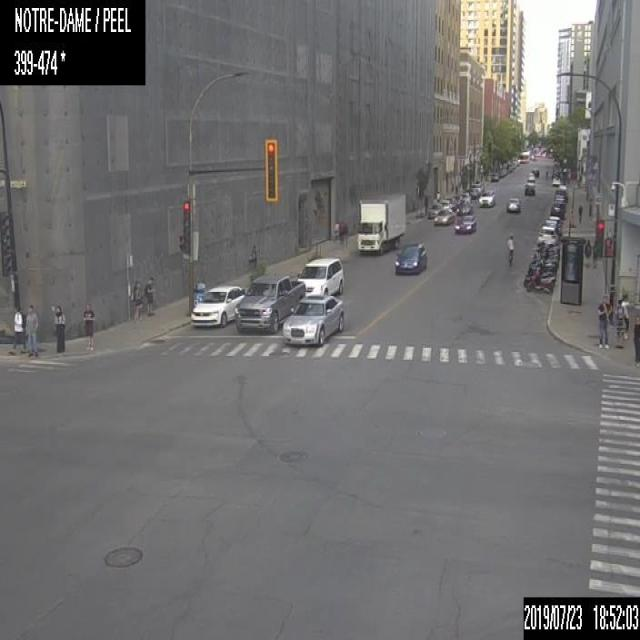pedestrian: (613, 293, 628, 347), (595, 296, 610, 349), (24, 303, 38, 357), (10, 302, 24, 355), (52, 303, 64, 352), (81, 306, 94, 351), (130, 275, 142, 320), (632, 297, 639, 364), (144, 275, 154, 319), (333, 219, 348, 248), (246, 243, 256, 281), (506, 232, 514, 267), (576, 201, 582, 223), (586, 197, 592, 216)
vehicle: (234, 272, 304, 332), (354, 189, 405, 254), (282, 294, 342, 345), (190, 283, 246, 329), (296, 256, 344, 294), (393, 240, 428, 272), (489, 158, 520, 182), (522, 276, 554, 292), (537, 225, 558, 245), (454, 214, 476, 233), (529, 259, 557, 272), (433, 208, 454, 225), (535, 244, 559, 258), (533, 252, 558, 264), (450, 200, 472, 213), (527, 268, 555, 278), (478, 190, 494, 207), (547, 215, 561, 234), (428, 202, 443, 217), (541, 218, 557, 232), (549, 203, 563, 217), (507, 196, 519, 212), (524, 181, 536, 195), (553, 197, 565, 210), (440, 199, 451, 209), (472, 182, 483, 192), (458, 192, 471, 200), (526, 172, 534, 182), (532, 168, 538, 176)
